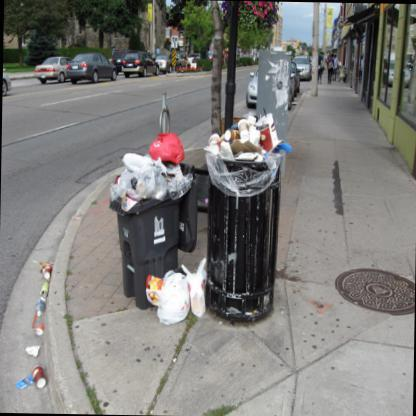Garbage: (204, 101, 292, 159), (140, 270, 184, 332), (115, 164, 164, 210), (30, 256, 54, 343), (10, 336, 46, 392), (108, 150, 149, 199), (184, 259, 209, 323), (247, 108, 278, 150), (146, 126, 184, 158), (160, 166, 195, 196), (212, 135, 242, 155), (270, 139, 292, 157)
